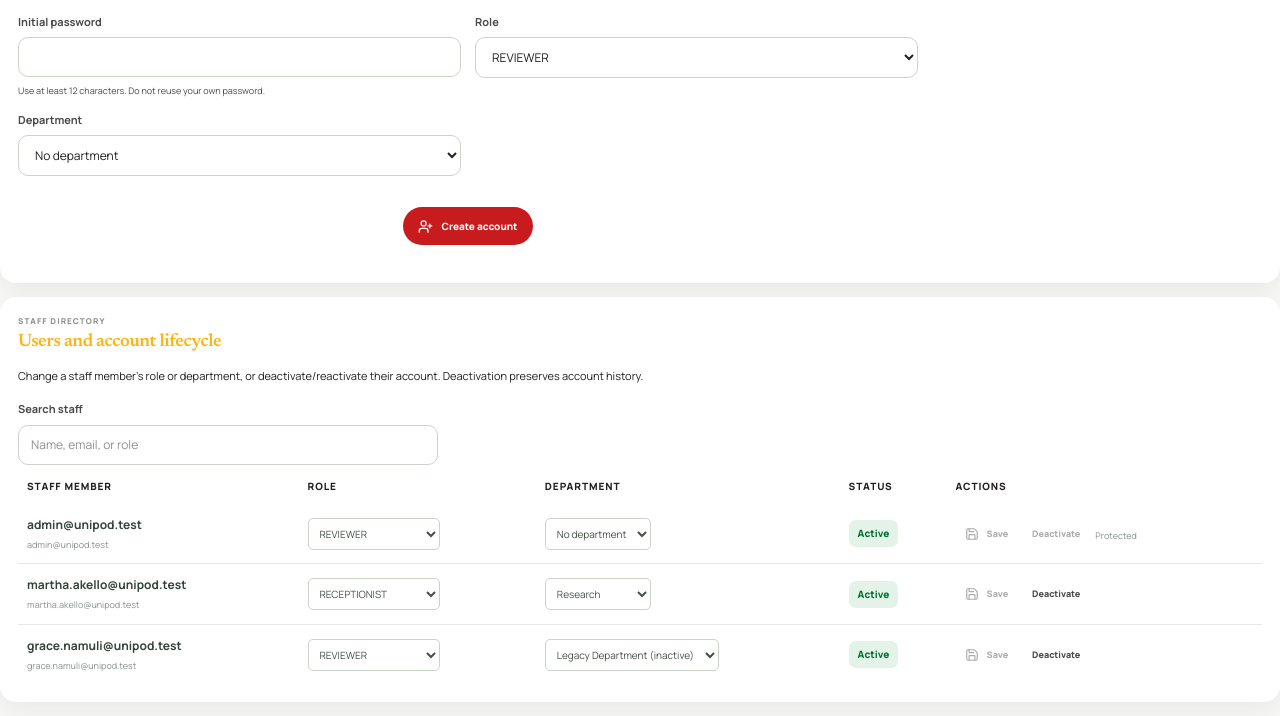
Scenario: UserManagementPage › deactivates an account and preserves it in the directory
(page scrolled)
Click the 2nd button "Deactivate" at (1056, 594), box x1=1023 y1=579 x2=1089 y2=610
(page scrolled)
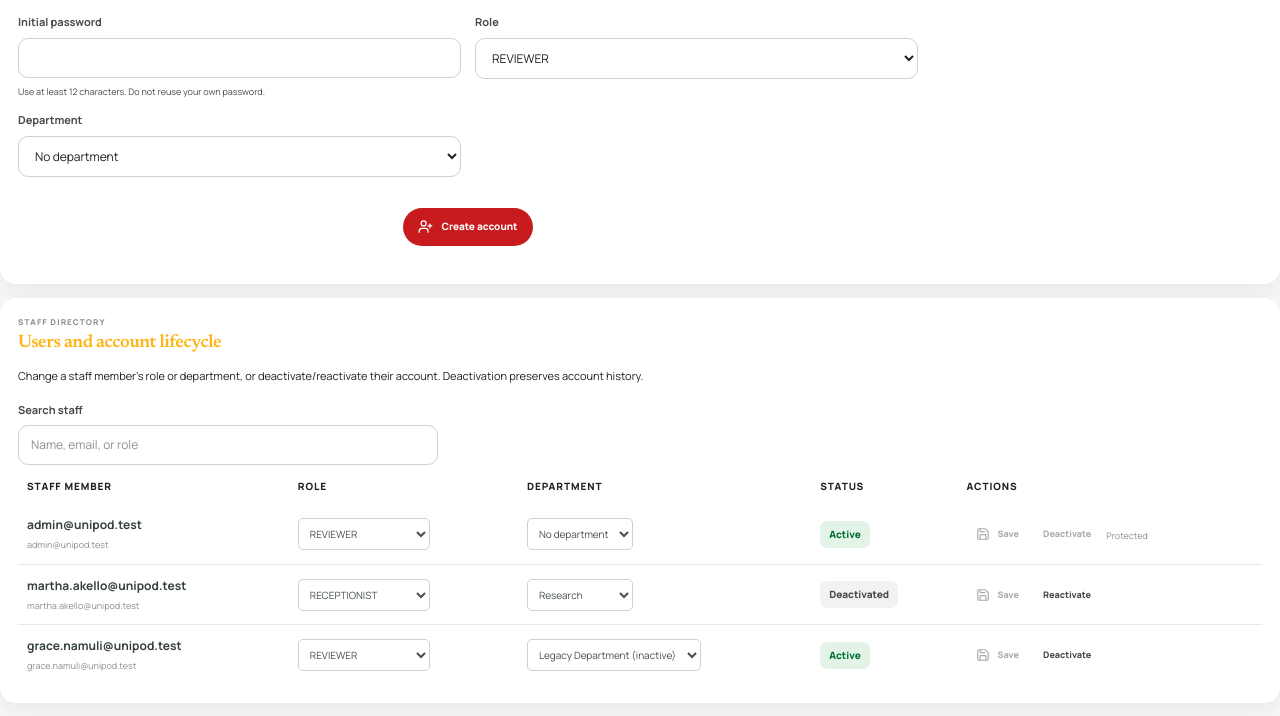
Check: the text "Deactivated" is shown, box x1=820 y1=581 x2=898 y2=608
